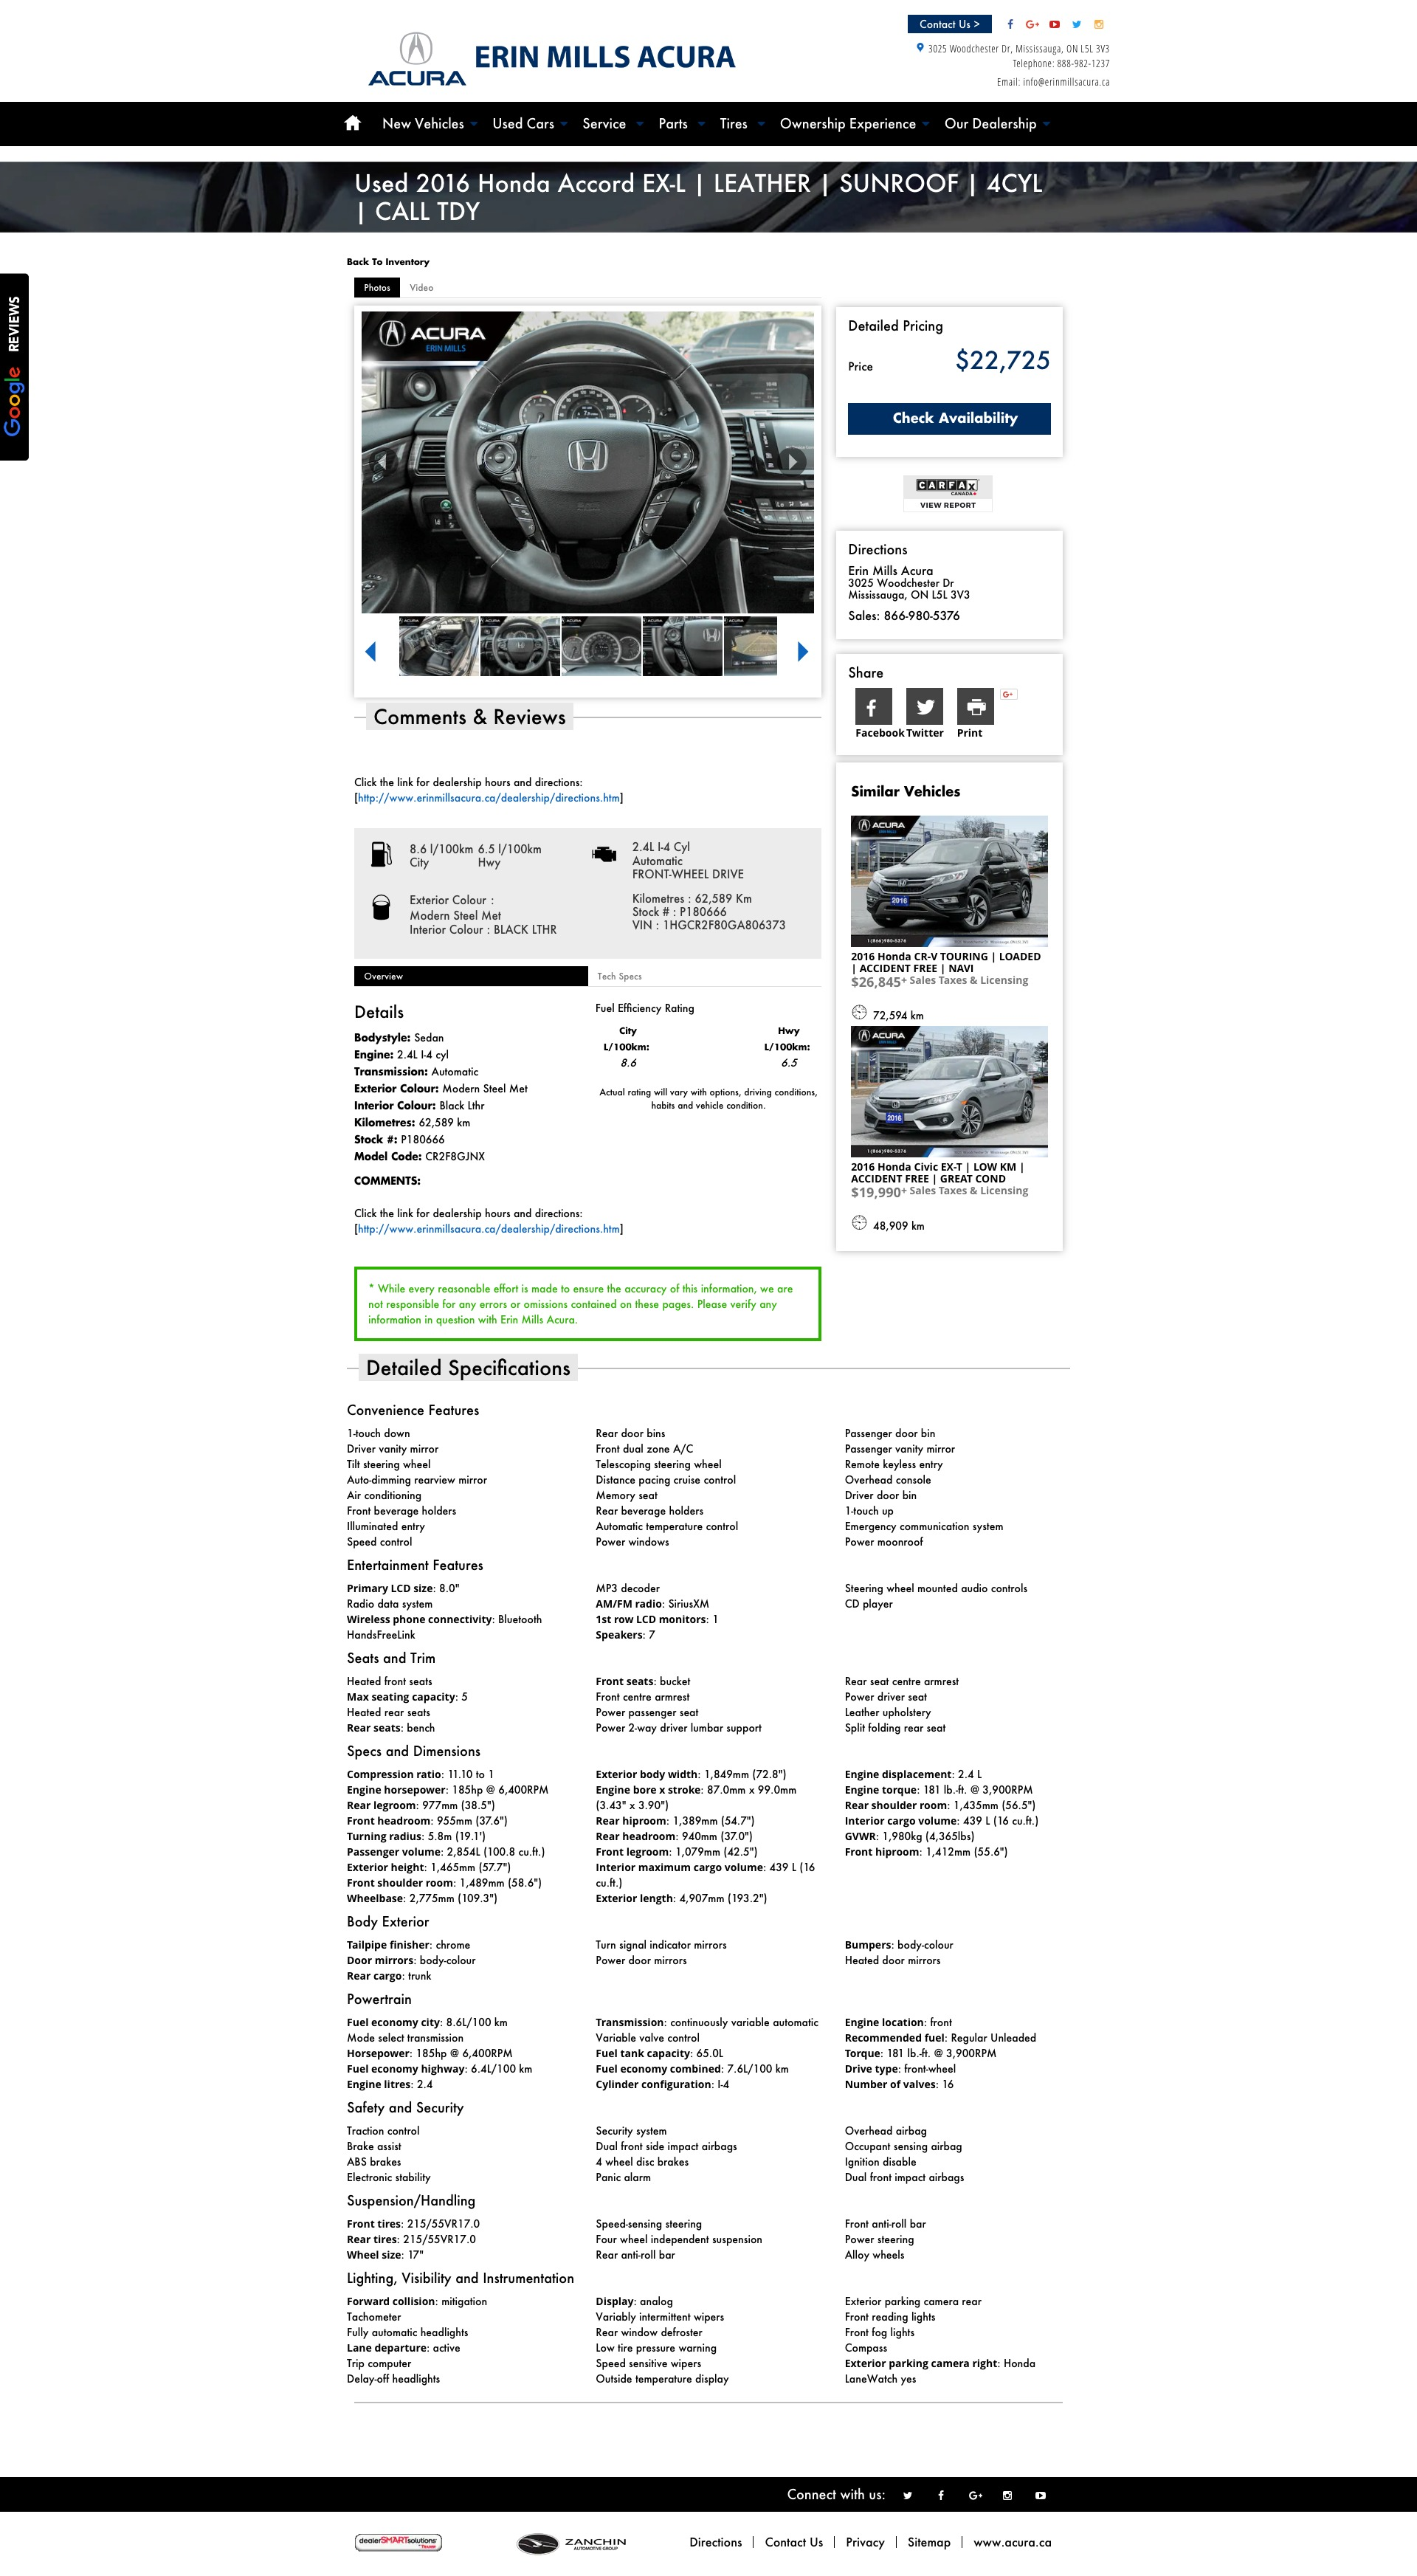car: (797, 642, 810, 663)
